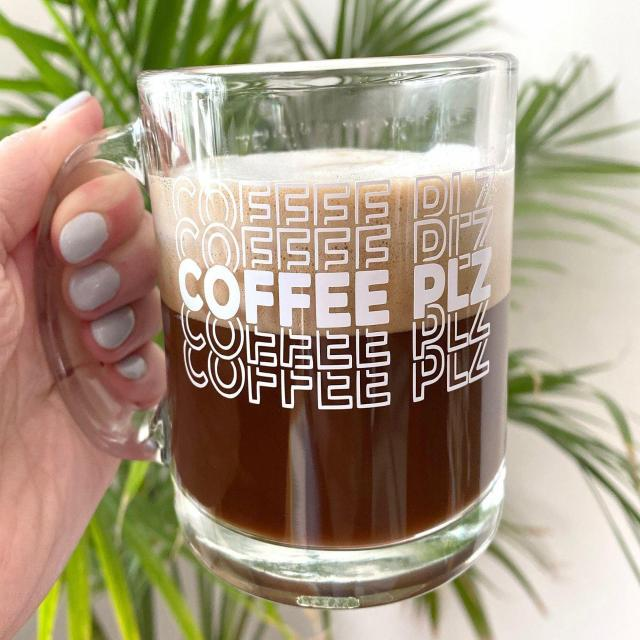glass-mug: (44, 45, 531, 620)
